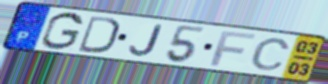5: (163, 23, 207, 64)
C: (248, 36, 292, 71)
D: (76, 14, 122, 55)
F: (208, 30, 258, 68)
G: (39, 11, 86, 52)
J: (127, 24, 164, 58)
